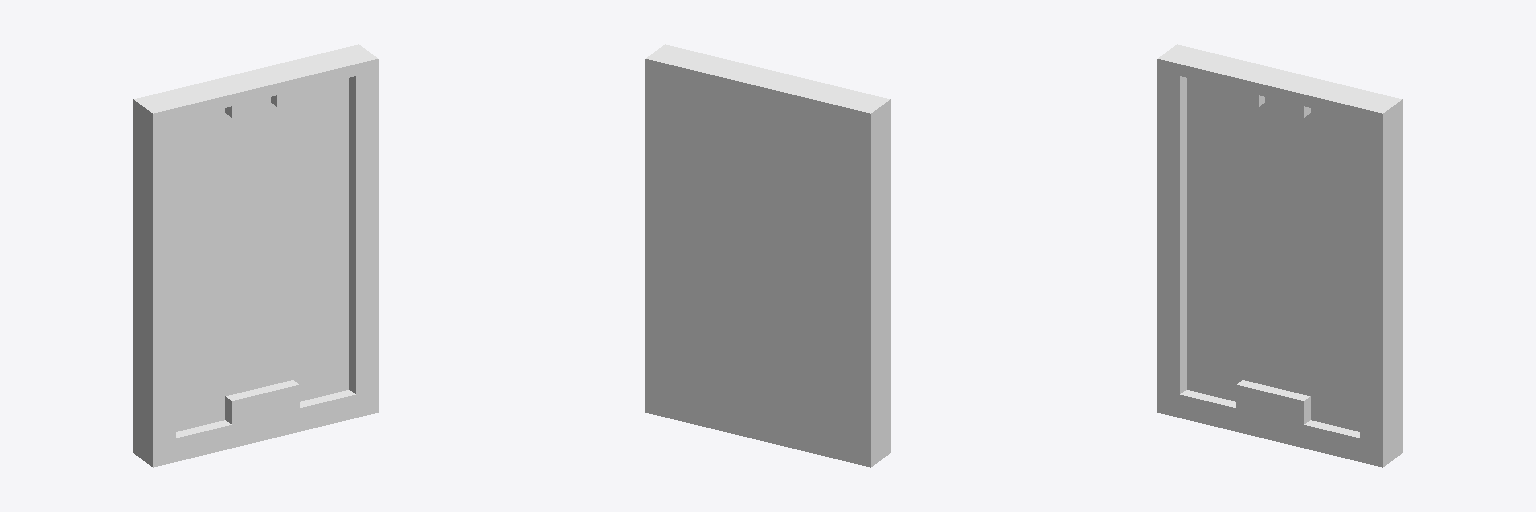
Rendered from PHONE.obj.
3 views of the same model, side by side, from view 1: azimuth 30°, elevation 25°; view 2: azimuth 150°, elevation 25°; view 3: azimuth 330°, elevation 25° (orthographic).
Parts seen in each view (by area): view 1: object 1; view 2: object 1; view 3: object 1.
Boxes of the visible parts, x1,y1,x2,y2 form: object 1: [133, 44, 378, 467]; object 1: [645, 44, 890, 467]; object 1: [1157, 44, 1402, 467].
Bounding box in the file's own units: 2 × 3 × 0.3.